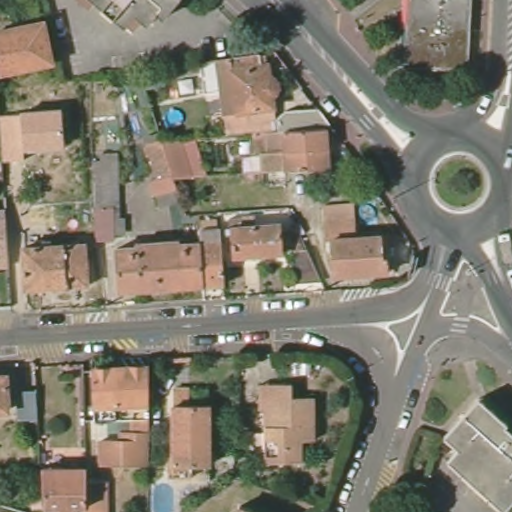pool: (149, 482, 181, 511), (162, 105, 183, 129), (358, 200, 378, 221)
